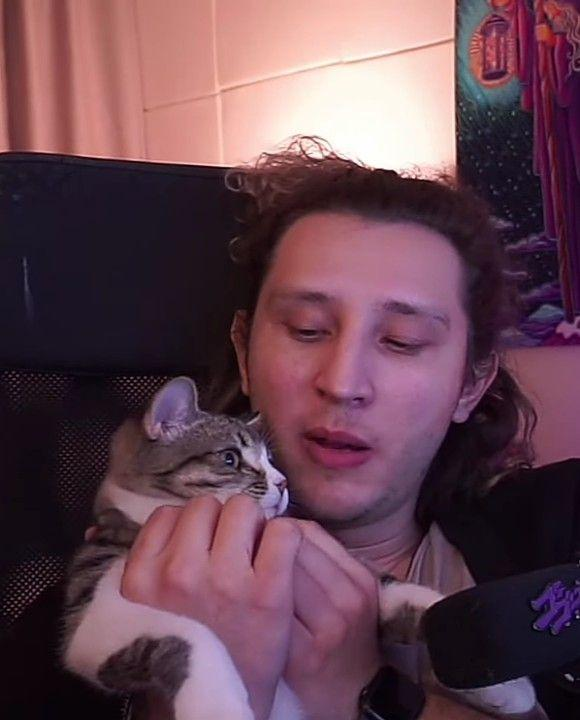kedo: (101, 375, 288, 520)
